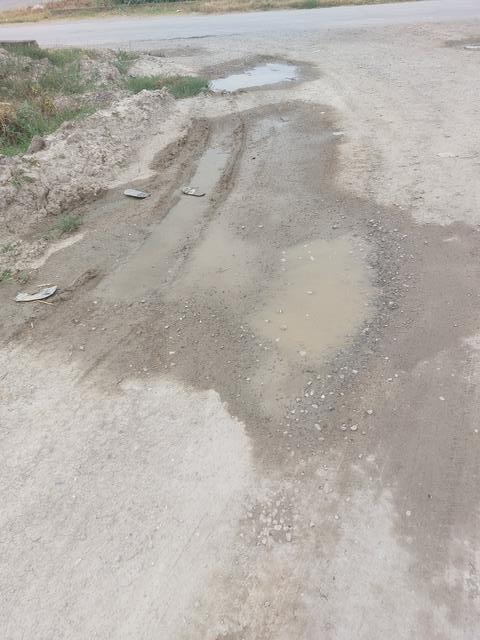pothole: (114, 179, 276, 319), (255, 235, 385, 379), (213, 45, 302, 94)
